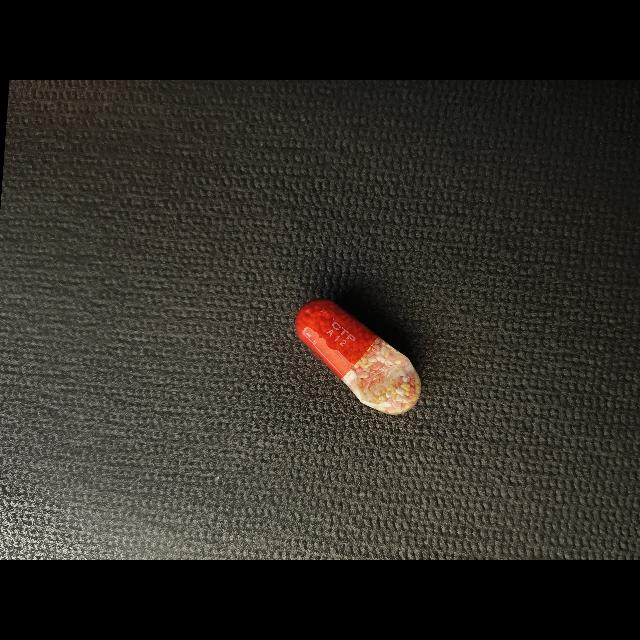Defective Capsule: (295, 298, 421, 415)
